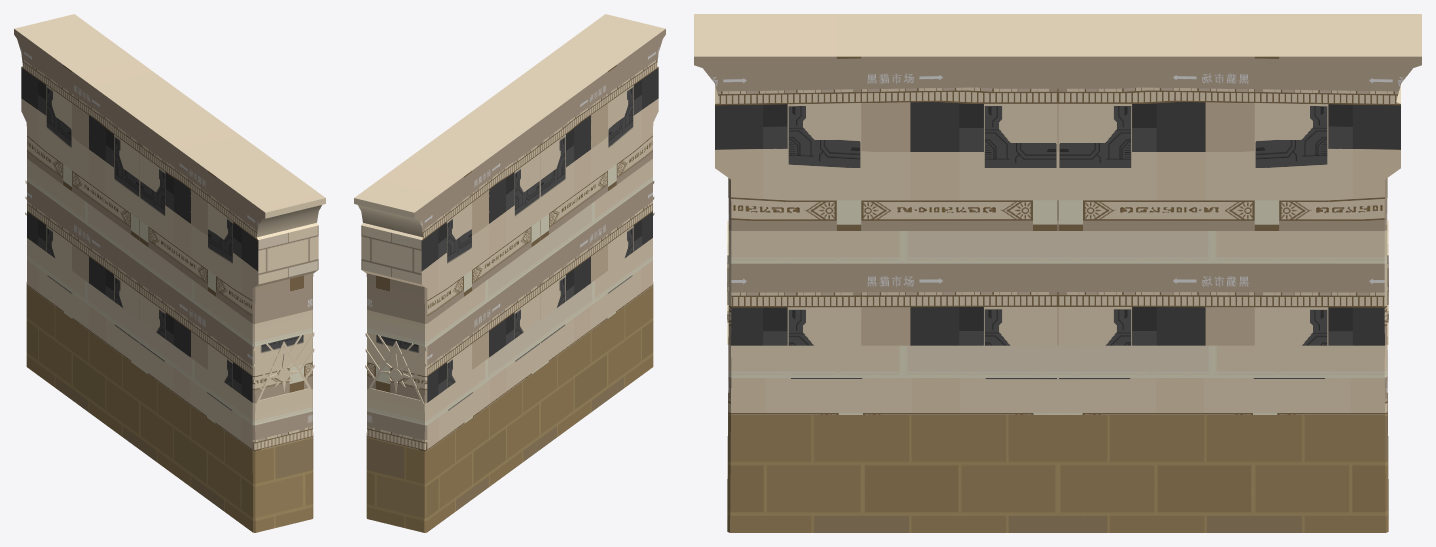
File: Wall3.fbx
The picture shows the model from 3 angles, left to right: view 1: azimuth 30°, elevation 25°; view 2: azimuth 150°, elevation 25°; view 3: azimuth 270°, elevation 25°; orthographic projection. The views are drawn at different scales.
Visible parts, largest first — view 1: column2_1Shap; view 2: column2_1Shap; view 3: column2_1Shap.
Boxes of the visible parts, box(x1,y1,x2,y2) form: column2_1Shap: box(14, 14, 325, 532); column2_1Shap: box(354, 14, 665, 532); column2_1Shap: box(694, 14, 1421, 532).
Bounding box in the file's own units: 0.2349 × 1.22 × 1.68.
